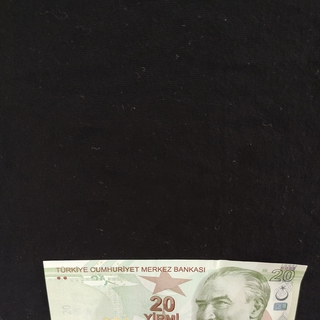20TLFront: (43, 260, 308, 320)
